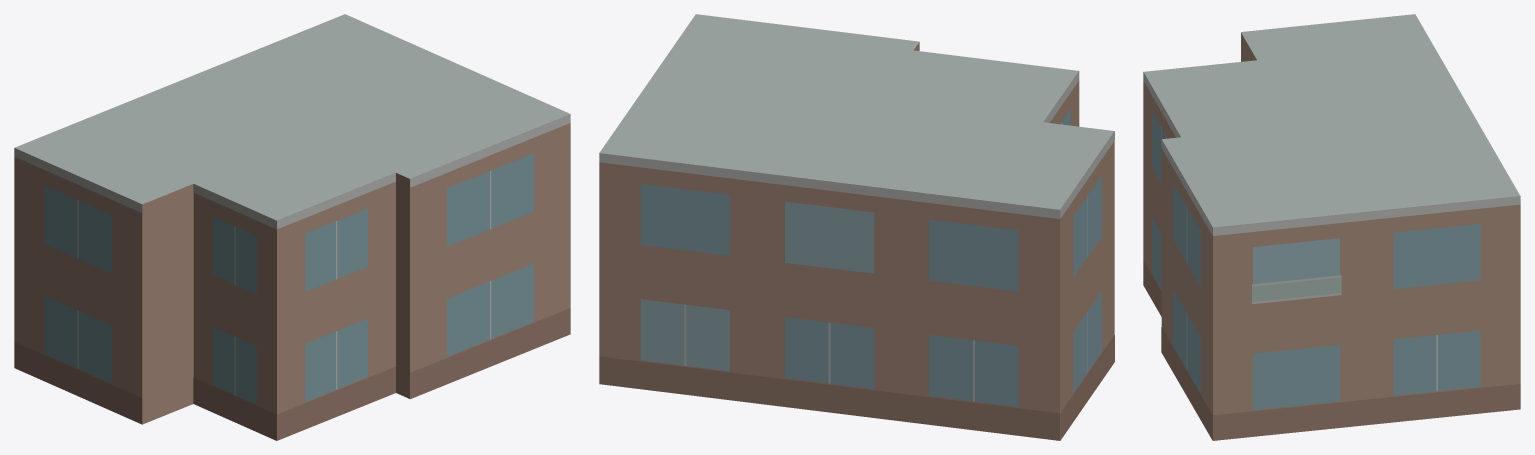
The model's file is survey-upis-32688998.glb.
3 views of the same model, side by side, from view 1: azimuth 30°, elevation 25°; view 2: azimuth 150°, elevation 25°; view 3: azimuth 270°, elevation 25° (orthographic). The views are drawn at different scales.
Parts seen in each view (by area): view 1: survey-upis-32688998.tmp; view 2: survey-upis-32688998.tmp; view 3: survey-upis-32688998.tmp.
Part boxes in pixels (x1,y1,x2,y2): survey-upis-32688998.tmp: [14, 14, 570, 440]; survey-upis-32688998.tmp: [599, 14, 1114, 440]; survey-upis-32688998.tmp: [1143, 14, 1520, 440].
Size of the model in its own units: 13.11 by 6.1 by 9.79.
